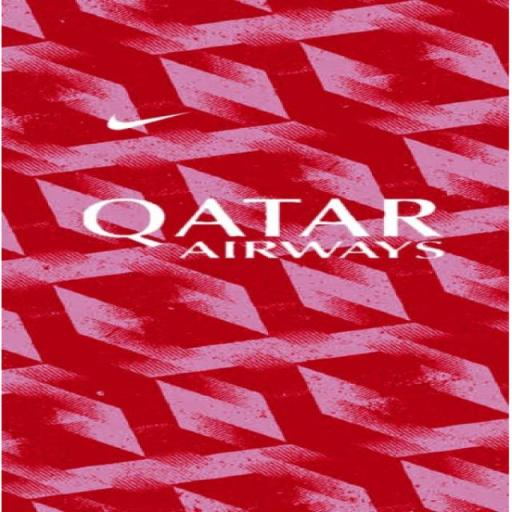Nike: (93, 106, 196, 138)
